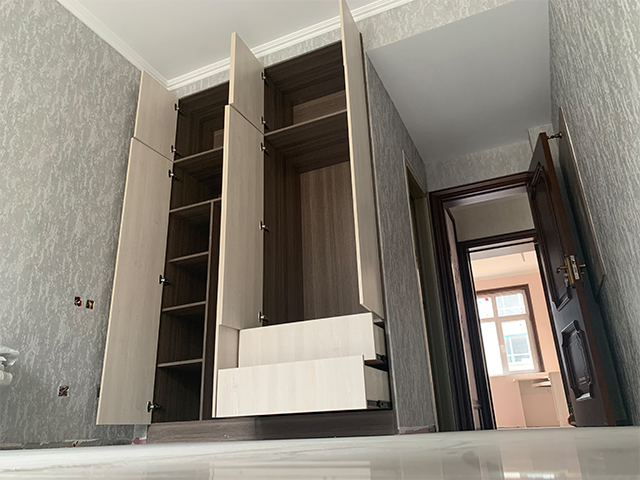cabinet: (149, 311, 392, 443)
table: (490, 371, 571, 427)
